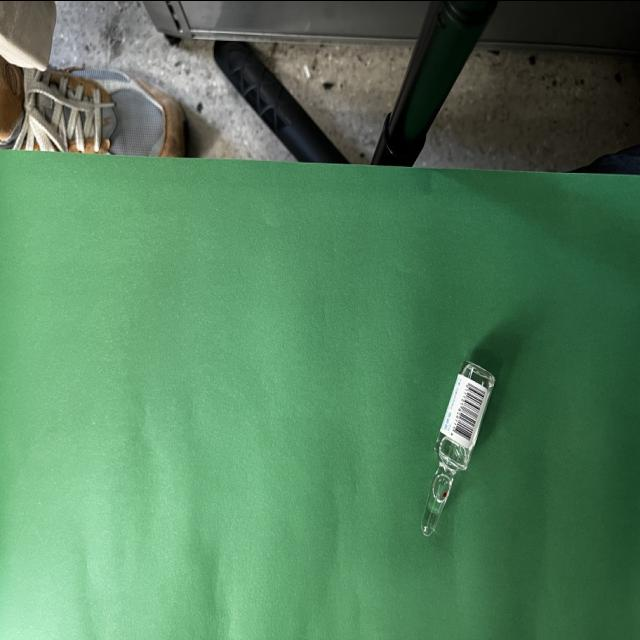Ampoules: (421, 359, 496, 535)
